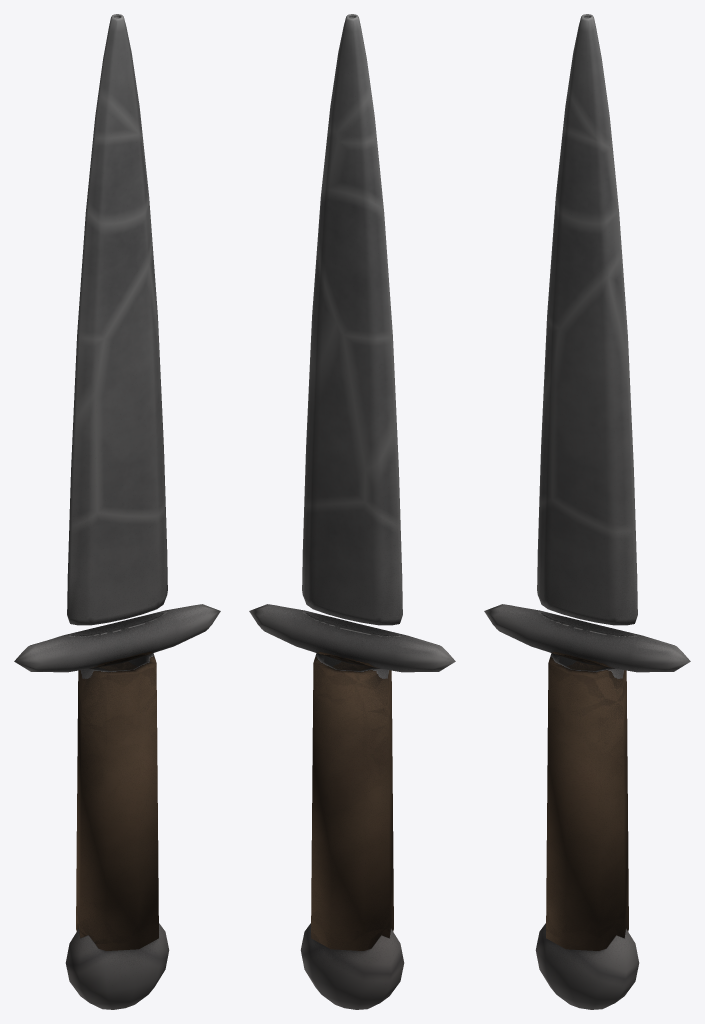
File: rogue_dagger.fbx
3 views of the same model, side by side, from view 1: azimuth 30°, elevation 25°; view 2: azimuth 150°, elevation 25°; view 3: azimuth 330°, elevation 25° (orthographic).
Visible parts, largest first — view 1: rogue_dagger; view 2: rogue_dagger; view 3: rogue_dagger.
Boxes of the visible parts, x1,y1,x2,y2 form: rogue_dagger: (14,14,220,1009); rogue_dagger: (249,14,455,1009); rogue_dagger: (484,14,690,1009).
Size of the model in its own units: 0.0944 by 0.4321 by 0.034.
